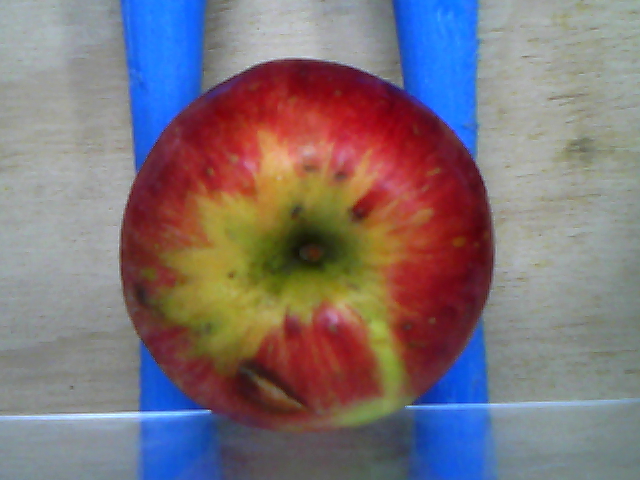cut: (238, 361, 302, 414)
